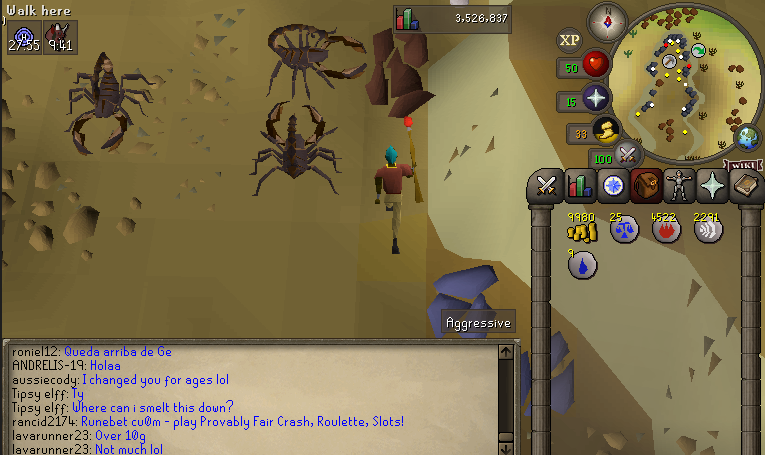iron: (365, 58, 438, 118), (367, 14, 434, 71)
